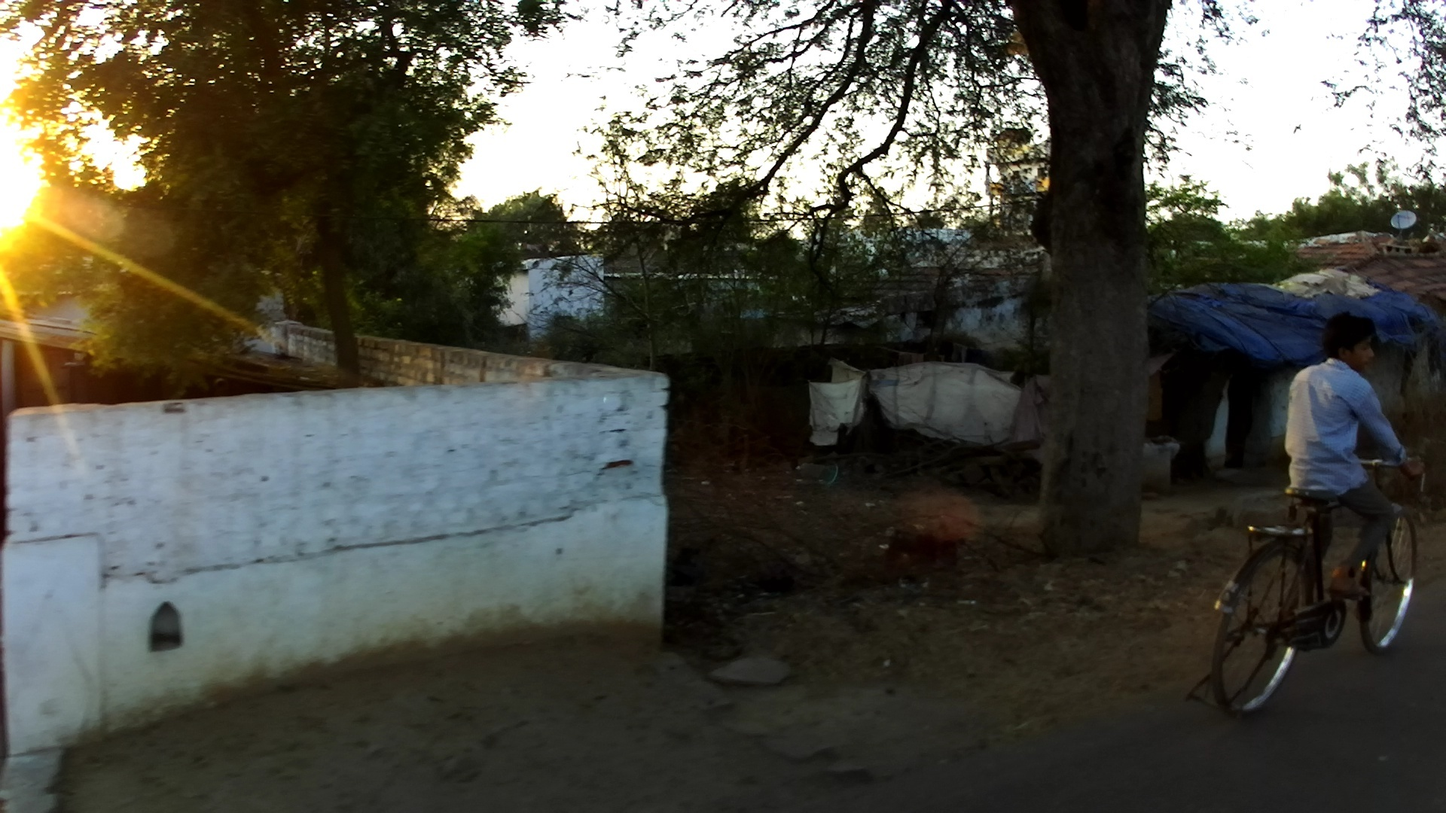bicycle: (1182, 453, 1428, 720)
rider: (1286, 313, 1428, 601)
